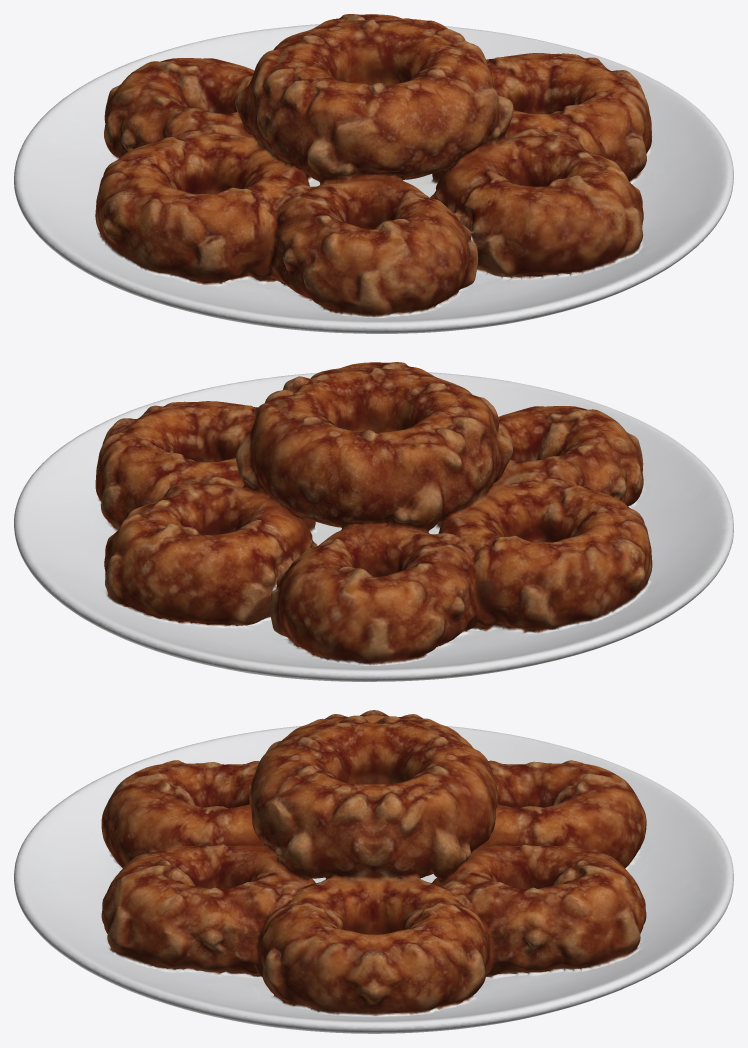
Rendered from KuihKeria.glb.
3 renders of one model, top to bottom at view 1: azimuth 30°, elevation 25°; view 2: azimuth 150°, elevation 25°; view 3: azimuth 270°, elevation 25°, orthographic.
Bounding box in the file's own units: 1.9 × 0.5005 × 1.9.
Materials: 1 (1 with a texture image).
